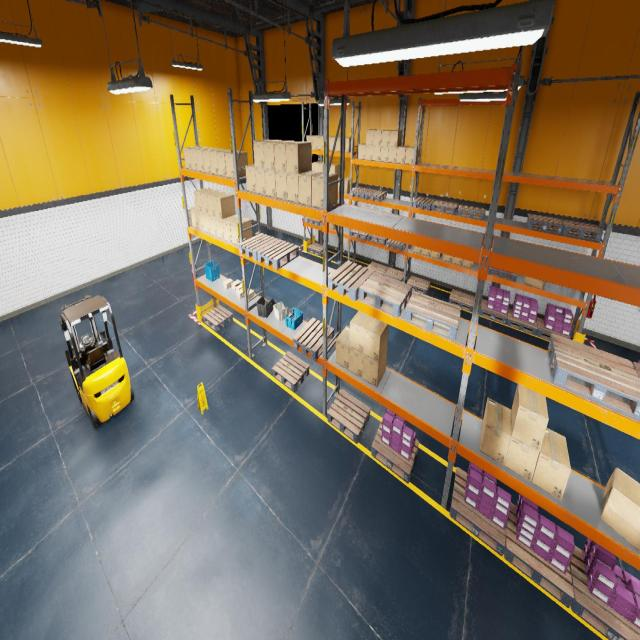box: (600, 468, 640, 551), (532, 428, 571, 500), (504, 410, 539, 482), (512, 384, 548, 452), (480, 398, 511, 465), (364, 317, 388, 362), (349, 310, 372, 354), (362, 347, 387, 387), (312, 172, 338, 208), (299, 170, 323, 206), (286, 142, 311, 174), (263, 140, 288, 170), (274, 140, 297, 172), (224, 151, 248, 178), (336, 326, 350, 370), (253, 140, 275, 168), (230, 217, 252, 245), (213, 192, 236, 218), (217, 150, 238, 176), (222, 215, 242, 242), (202, 148, 223, 173), (195, 147, 216, 172), (209, 149, 229, 175), (206, 191, 226, 216), (200, 189, 219, 214), (194, 187, 212, 212), (183, 146, 202, 169), (349, 347, 363, 378), (189, 147, 207, 170), (286, 172, 299, 202), (275, 170, 287, 200), (264, 169, 276, 197), (254, 168, 266, 195), (245, 164, 256, 193), (524, 276, 546, 289), (405, 146, 418, 164), (389, 130, 402, 146), (381, 130, 394, 146), (396, 146, 408, 163), (215, 217, 224, 239), (209, 214, 217, 237), (202, 212, 210, 234), (190, 206, 198, 228), (373, 130, 384, 146), (196, 210, 204, 230), (330, 136, 340, 151), (380, 146, 389, 162), (388, 146, 397, 162), (329, 164, 340, 177), (307, 135, 317, 149), (345, 137, 354, 152), (344, 178, 352, 194), (366, 129, 374, 145), (336, 137, 345, 151), (372, 146, 381, 160), (338, 177, 346, 192), (365, 145, 373, 160), (312, 135, 320, 149), (358, 144, 365, 160), (452, 256, 463, 266), (223, 278, 233, 288), (231, 280, 241, 290), (442, 254, 452, 263), (236, 288, 244, 299), (463, 260, 474, 268), (431, 251, 442, 259), (247, 288, 254, 300), (323, 163, 333, 171), (312, 162, 322, 170), (236, 280, 242, 292), (422, 248, 431, 256), (413, 246, 422, 254), (318, 136, 323, 150), (328, 223, 338, 229), (317, 162, 323, 172), (329, 136, 332, 150)
forklift: (60, 294, 134, 428)
pallets: (548, 333, 640, 420), (504, 503, 574, 608), (569, 546, 640, 639), (450, 467, 506, 556), (371, 419, 419, 483), (405, 291, 460, 341), (359, 272, 412, 317), (327, 389, 370, 444), (328, 261, 374, 301), (293, 318, 334, 360), (272, 351, 309, 392), (257, 240, 298, 270), (238, 233, 278, 260), (561, 219, 603, 241), (507, 308, 538, 336), (536, 317, 571, 340), (202, 305, 232, 331), (527, 214, 563, 234), (480, 299, 508, 324), (449, 289, 475, 312), (488, 266, 517, 282), (458, 205, 486, 220), (407, 276, 430, 294), (432, 200, 459, 214), (413, 196, 436, 211), (383, 268, 404, 282), (350, 187, 372, 199), (364, 190, 386, 202), (367, 262, 388, 274), (387, 240, 406, 252), (368, 234, 388, 245), (350, 229, 369, 240), (308, 242, 323, 255), (307, 217, 322, 226), (632, 362, 640, 378)
